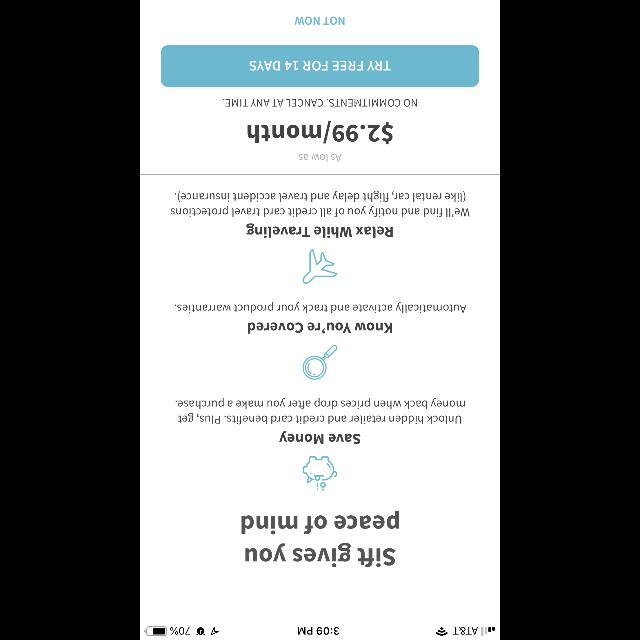icon: (302, 344, 338, 380)
image: (302, 248, 338, 284), (302, 456, 338, 490)
text: (242, 510, 398, 568), (170, 190, 470, 218), (176, 398, 464, 424), (174, 302, 466, 314), (247, 120, 393, 144), (247, 222, 393, 238), (248, 322, 392, 333), (223, 99, 417, 107), (280, 431, 360, 445), (294, 17, 344, 25), (299, 154, 341, 162)
textbutton: (161, 45, 479, 87)
uppertaskbar: (140, 626, 500, 640)
